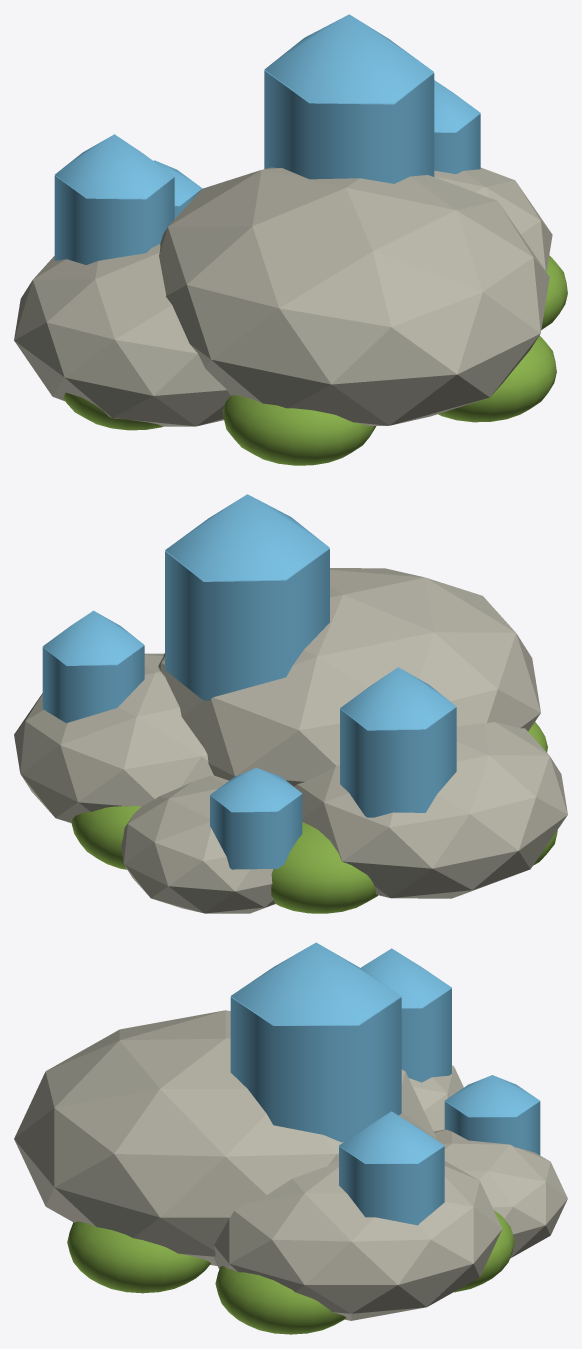
The model's file is ore_ready.fbx.
The picture shows the model from 3 angles, top to bottom: view 1: azimuth 30°, elevation 25°; view 2: azimuth 150°, elevation 25°; view 3: azimuth 270°, elevation 25°; orthographic projection. The views are drawn at different scales.
Parts seen in each view (by area): view 1: ore_ready; view 2: ore_ready; view 3: ore_ready.
Boxes of the visible parts, bbox=[...] form: ore_ready: bbox=[14, 14, 567, 465]; ore_ready: bbox=[14, 494, 567, 913]; ore_ready: bbox=[14, 942, 567, 1334].
Bounding box in the file's own units: 1.5 × 1 × 1.5.
Materials: 1 (1 with a texture image).
